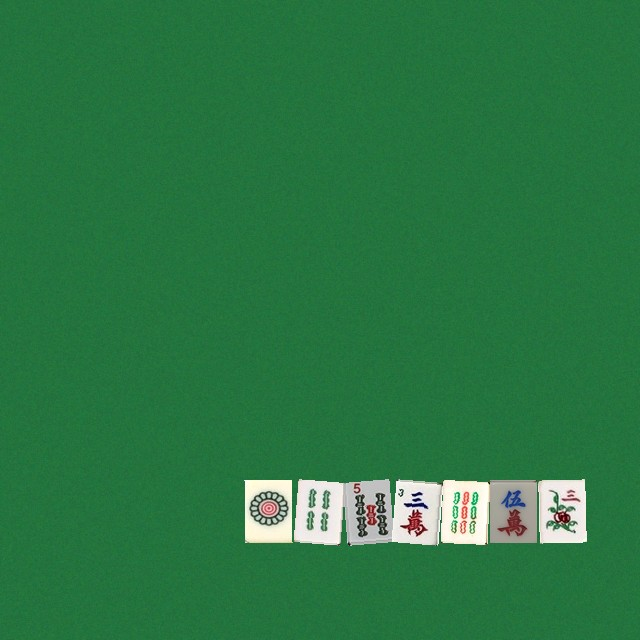tile: (244, 479, 291, 542), (293, 479, 340, 542), (342, 479, 389, 542), (391, 479, 438, 542), (440, 479, 487, 542), (489, 479, 536, 542), (538, 479, 585, 542)
